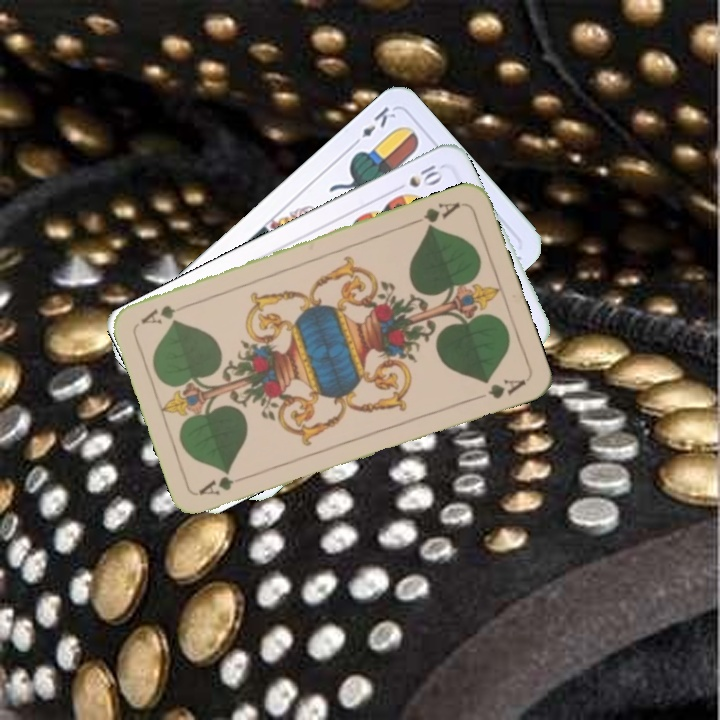EK: (347, 102, 399, 150)
GA: (408, 198, 463, 232), (195, 470, 253, 499)
S10: (389, 160, 445, 195)
